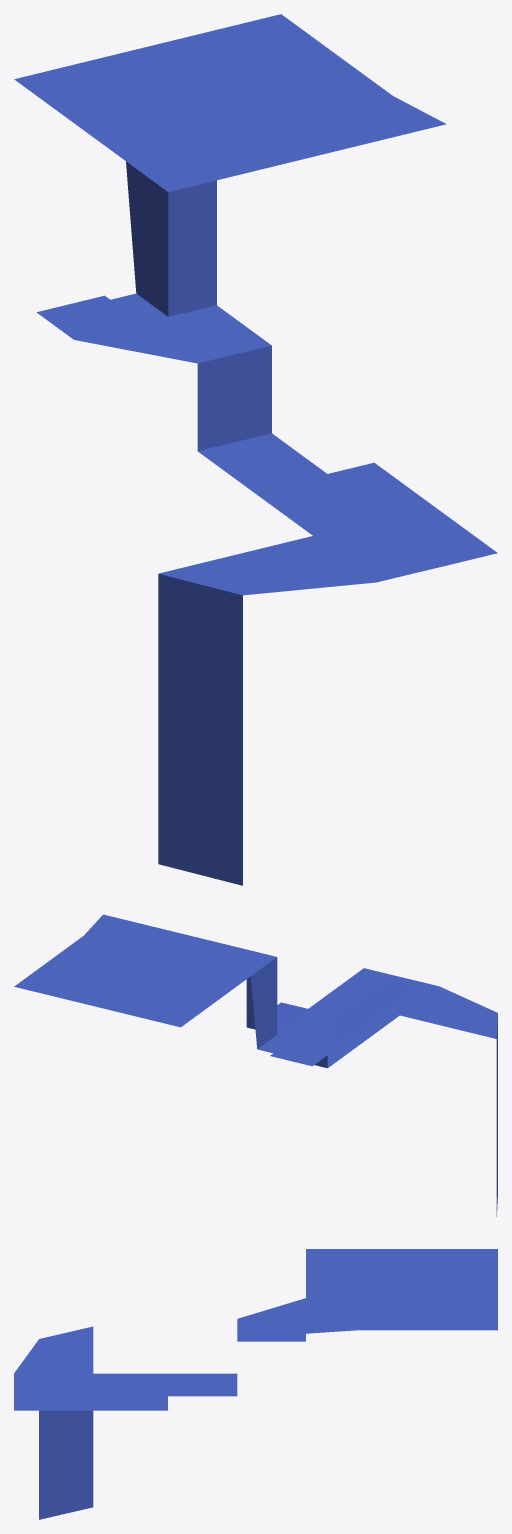
The model's file is River.fbx.
3 renders of one model, top to bottom at view 1: azimuth 30°, elevation 25°; view 2: azimuth 150°, elevation 25°; view 3: azimuth 270°, elevation 25°, orthographic. The views are drawn at different scales.
Parts seen in each view (by area): view 1: Plane; view 2: Plane; view 3: Plane.
Boxes of the visible parts, <box> form: Plane: <box>14,14,497,885</box>; Plane: <box>14,914,497,1216</box>; Plane: <box>14,1249,497,1519</box>.
Bounding box in the file's own units: 23.11 × 24.18 × 33.86.
